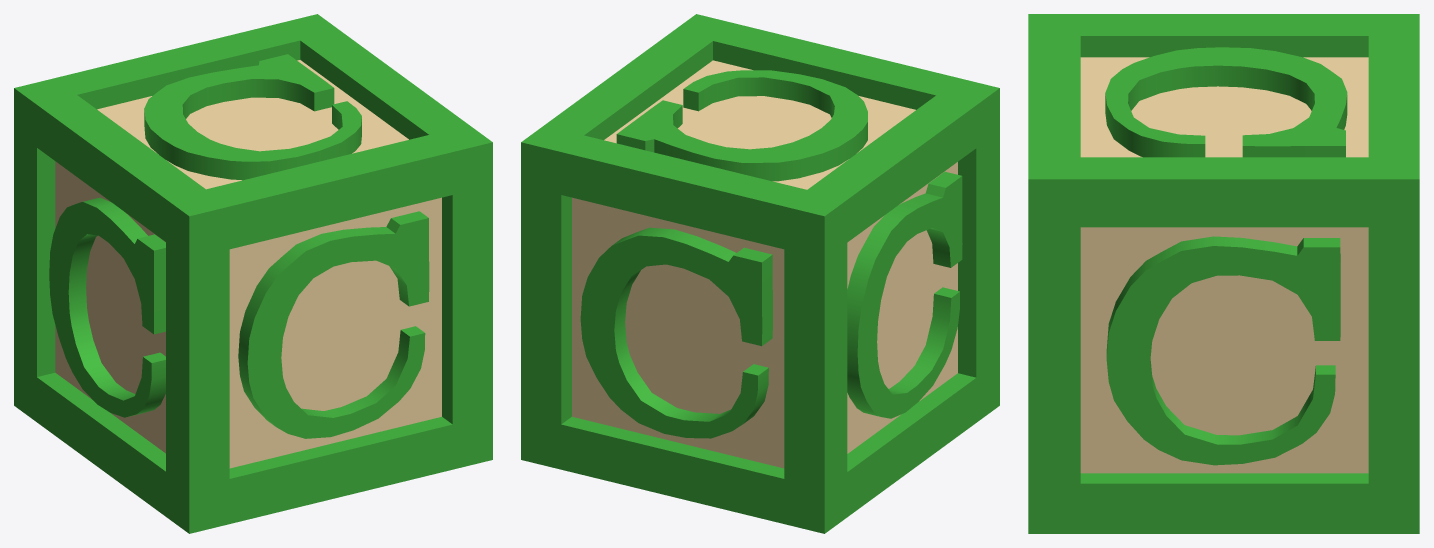
Rendered from Cblock.FBX.
3 renders of one model, left to right at view 1: azimuth 30°, elevation 25°; view 2: azimuth 150°, elevation 25°; view 3: azimuth 270°, elevation 25°, orthographic. The views are drawn at different scales.
Parts seen in each view (by area): view 1: Box Base, C Front, C Left, C Top; view 2: Box Base, C Back, C Left, C Top; view 3: Box Base, C Right, C Top.
Part boxes in pixels (left/top/right/bottom): Box Base: left=14, top=14, right=492, bottom=533; C Front: left=238, top=211, right=429, bottom=438; C Left: left=49, top=197, right=165, bottom=417; C Top: left=144, top=54, right=361, bottom=180; Box Base: left=521, top=14, right=999, bottom=533; C Back: left=580, top=227, right=772, bottom=438; C Left: left=847, top=171, right=962, bottom=418; C Top: left=616, top=70, right=867, bottom=181; Box Base: left=1028, top=14, right=1419, bottom=533; C Right: left=1106, top=236, right=1340, bottom=465; C Top: left=1105, top=47, right=1347, bottom=157.
Size of the model in its own units: 39.37 by 39.37 by 39.39.
2 materials, 2 textured.
